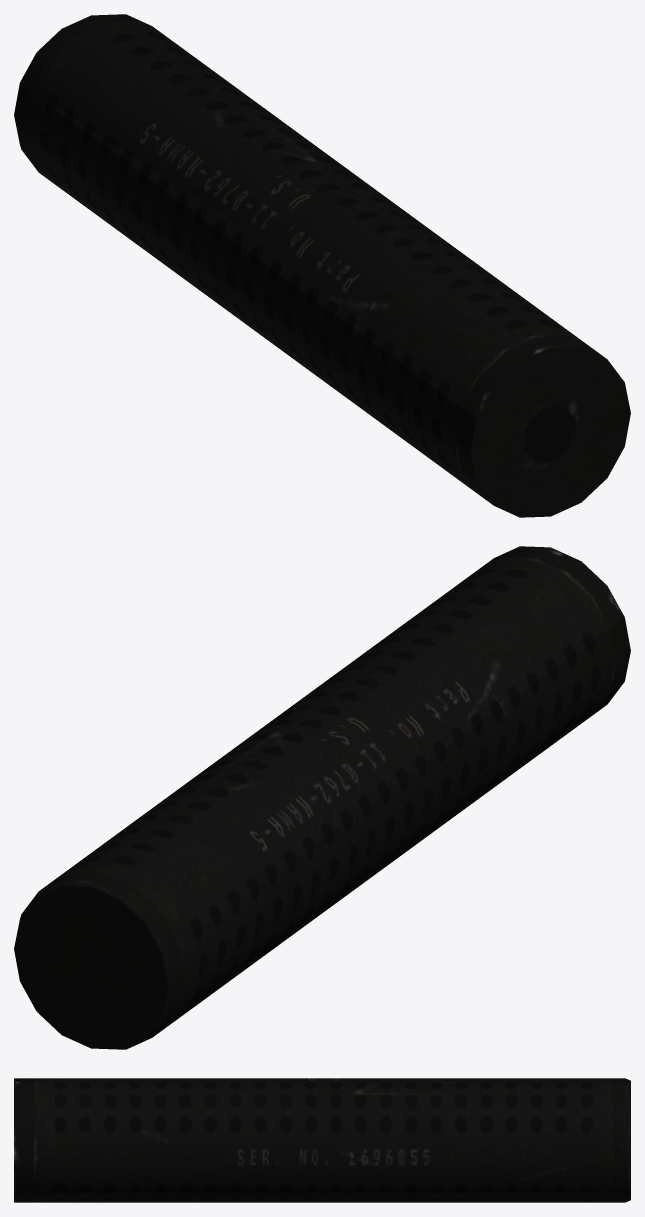
File: SILENCER.FBX
3 views of the same model, one above another, from view 1: azimuth 30°, elevation 25°; view 2: azimuth 150°, elevation 25°; view 3: azimuth 270°, elevation 25° (orthographic). The views are drawn at different scales.
Visible parts, largest first — view 1: Mesh_0015; view 2: Mesh_0015; view 3: Mesh_0015.
Part boxes in pixels (<box>): Mesh_0015: <box>14,14,630,517</box>; Mesh_0015: <box>14,546,630,1049</box>; Mesh_0015: <box>14,1078,630,1202</box>.
Size of the model in its own units: 3.96 by 3.96 by 19.62.
